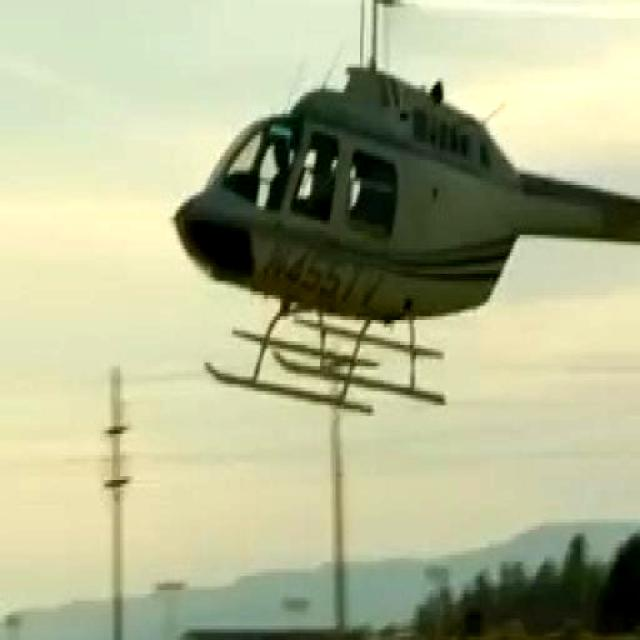drone: (154, 0, 640, 428)
